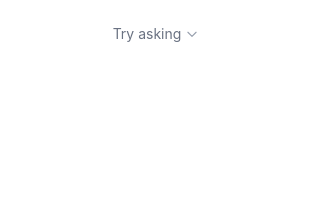
it: DashboardSampleQuestions › menu selection submits onAsk exactly once and closes
Later steps or results of the test are not shown.
Click the button with aria-label "Try asking a sample question" at (156, 34), box [105,12,207,56]
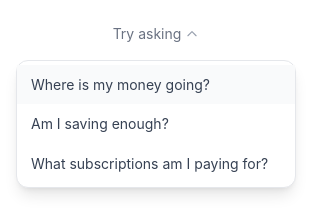
Click the menu item "Am I saving enough?" at (156, 124), box [17,104,295,144]
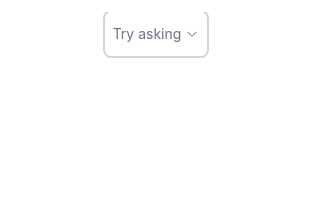
Expected: the menu is gone
